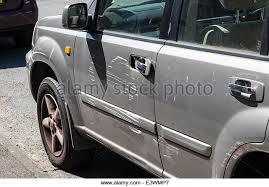doorouter-dent: (158, 44, 249, 177), (76, 37, 149, 158)
fender-dent: (28, 24, 78, 71)
